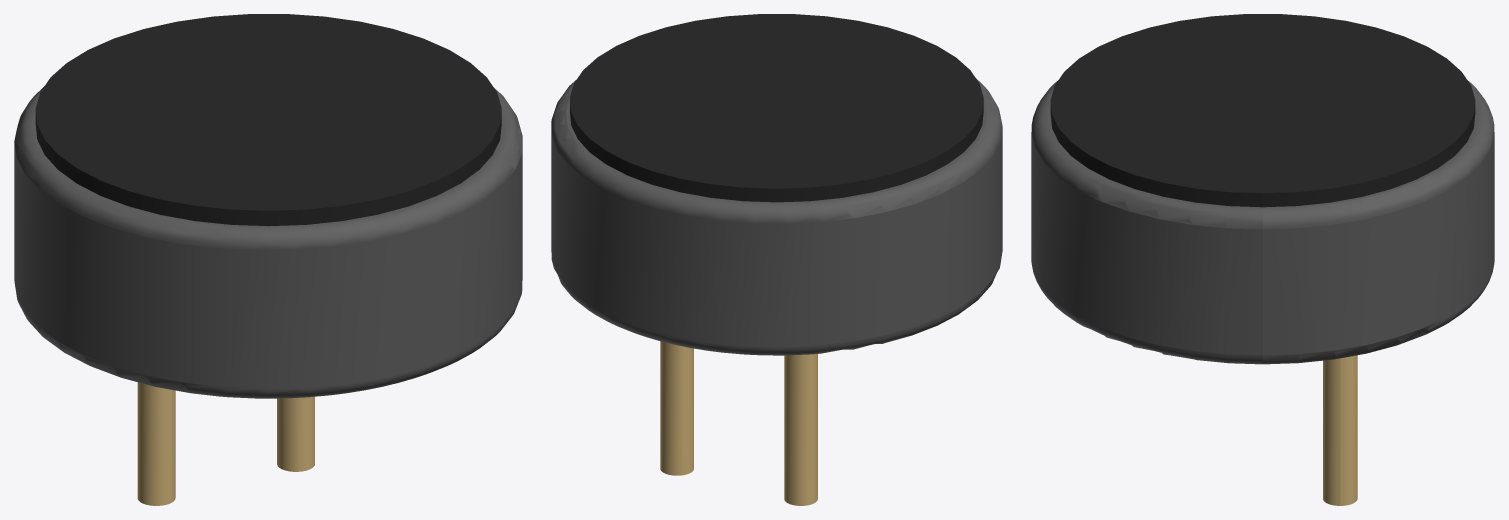
Rendered from kc-pom-2244p-c3310-2-r.glb.
3 views of the same model, side by side, from view 1: azimuth 30°, elevation 25°; view 2: azimuth 150°, elevation 25°; view 3: azimuth 270°, elevation 25° (orthographic). The views are drawn at different scales.
Visible parts, largest first — view 1: 0.08333333333333333_0.08333333333333333_0.08333333333333333_, 0_0_0_0, 0.75_0.5_0.25_0.9; view 2: 0.08333333333333333_0.08333333333333333_0.08333333333333333_, 0_0_0_0, 0.75_0.5_0.25_0.9; view 3: 0.08333333333333333_0.08333333333333333_0.08333333333333333_, 0_0_0_0, 0.75_0.5_0.25_0.9.
Boxes of the visible parts, left/top/right/bottom form: 0.08333333333333333_0.08333333333333333_0.08333333333333333_: left=14, top=86, right=522, bottom=398; 0_0_0_0: left=35, top=14, right=501, bottom=226; 0.75_0.5_0.25_0.9: left=137, top=382, right=314, bottom=505; 0.08333333333333333_0.08333333333333333_0.08333333333333333_: left=551, top=78, right=1002, bottom=355; 0_0_0_0: left=570, top=14, right=983, bottom=202; 0.75_0.5_0.25_0.9: left=660, top=341, right=817, bottom=505; 0.08333333333333333_0.08333333333333333_0.08333333333333333_: left=1031, top=80, right=1494, bottom=364; 0_0_0_0: left=1050, top=14, right=1475, bottom=207; 0.75_0.5_0.25_0.9: left=1323, top=355, right=1357, bottom=505.
Bounding box in the file's own units: 0.5991 × 0.52 × 0.5996.
